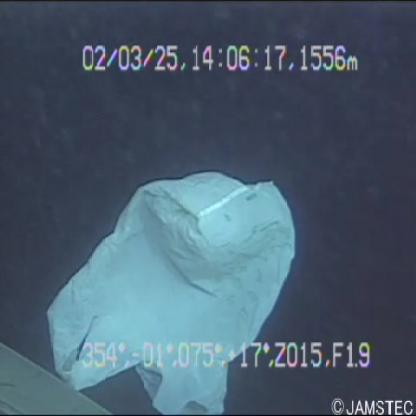Rov: (1, 321, 129, 416)
Rác: (45, 149, 303, 416)
